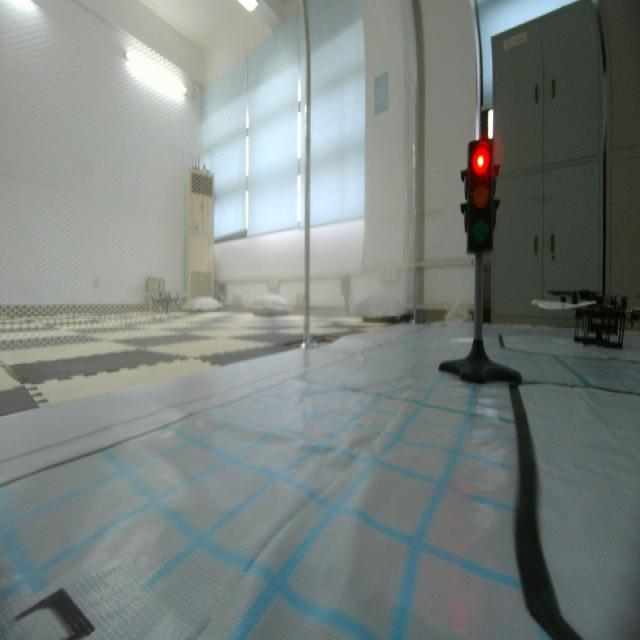red: (462, 140, 498, 258)
